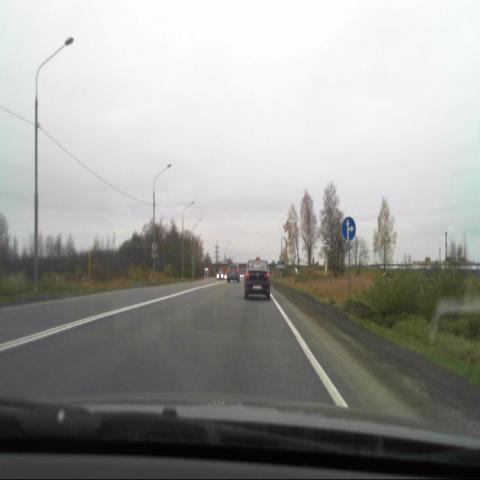4_1_4: (340, 215, 358, 243)
